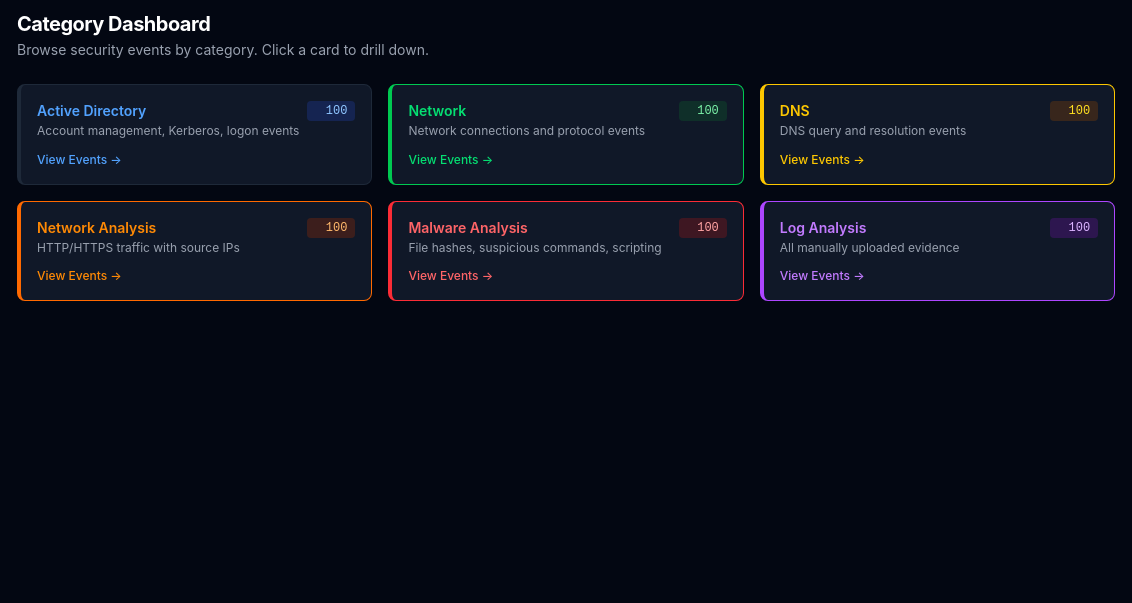
CategoryDashboardPage › error state › shows "Failed to load events" text in the error state
Step 1. Click the heading "Active Directory" → (92, 110), box [37,102,146,119]
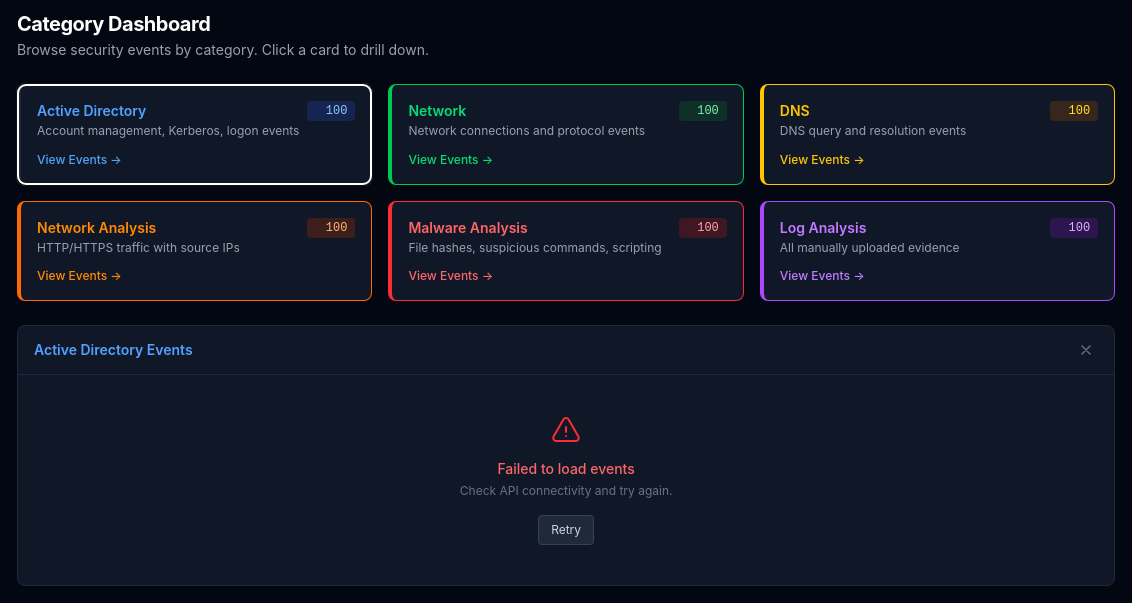
expect the text "Failed to load events" is shown: met, box [497,460,635,477]
